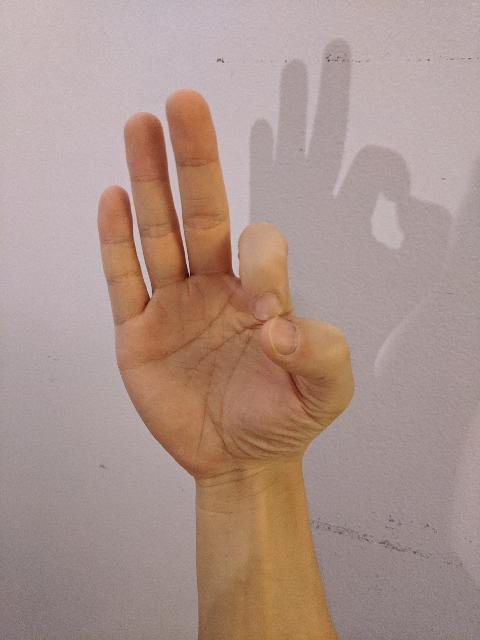F: (92, 87, 360, 486)
